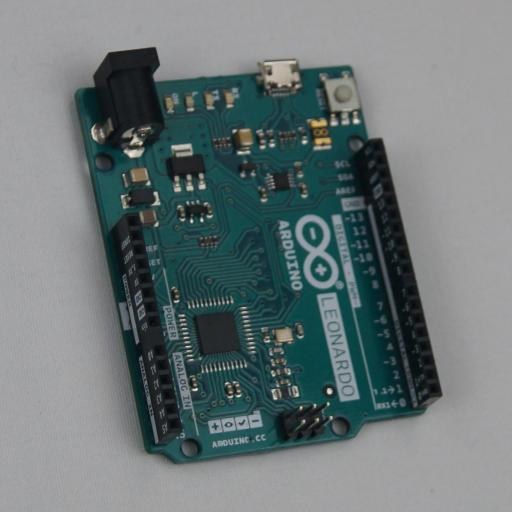Arduino Leonardo: (72, 47, 442, 464)
